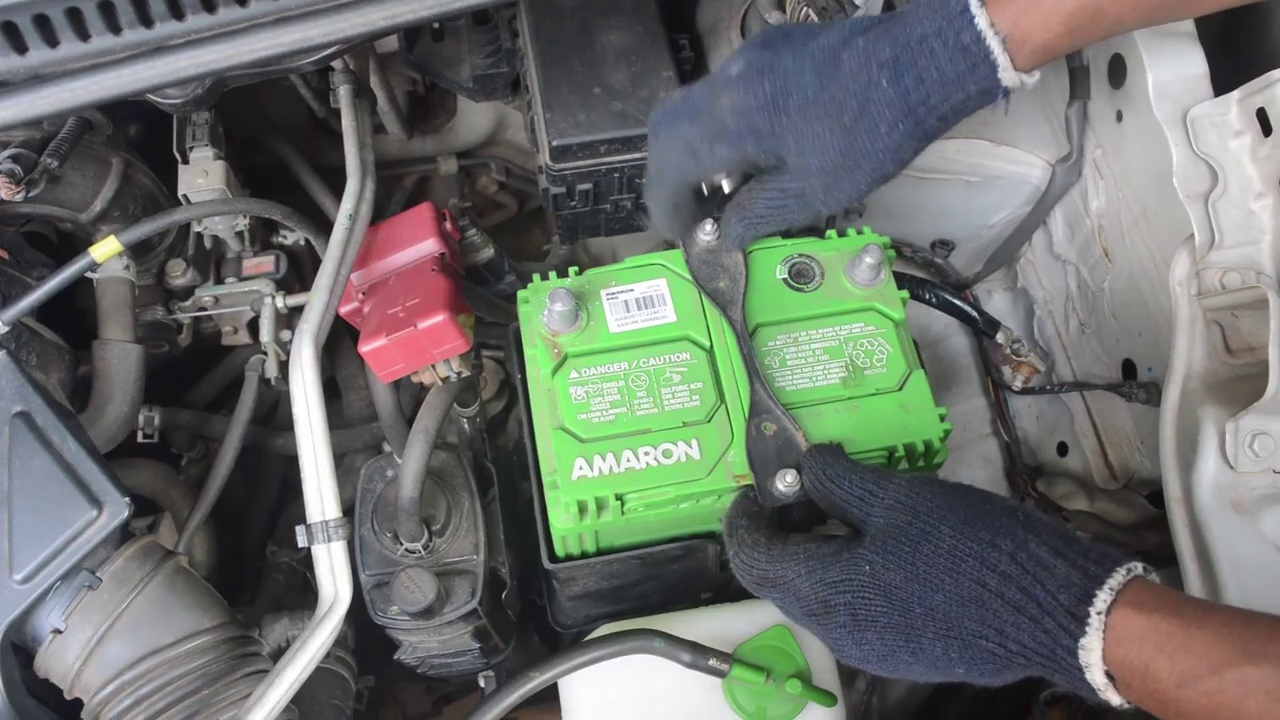battery: (522, 220, 945, 492)
neg_disconnected: (810, 225, 914, 298)
pos_disconnected: (355, 217, 588, 371)
